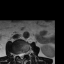CCS_normal: (20, 50, 22, 61)
LFS_normal: (25, 49, 27, 56)
LLS_normal: (22, 50, 25, 58)
RFS_normal: (15, 51, 18, 57)
RLS_normal: (18, 50, 20, 59)
